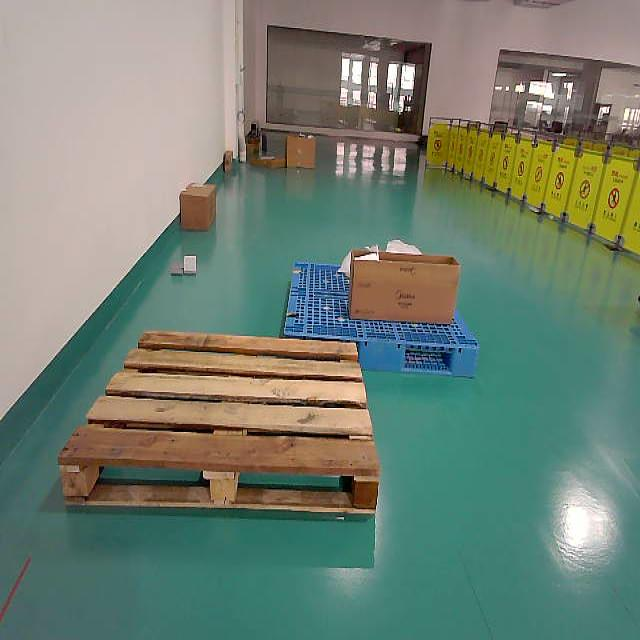euro: (57, 332, 379, 516)
